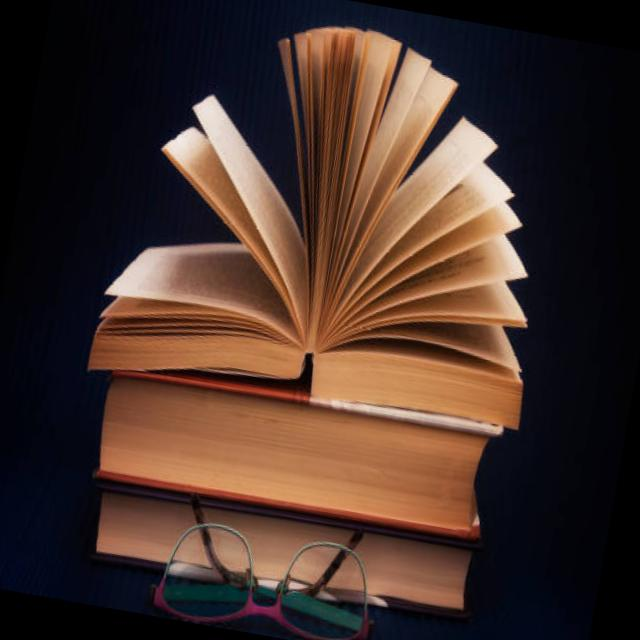electronic: (90, 361, 500, 542), (90, 480, 477, 620)
